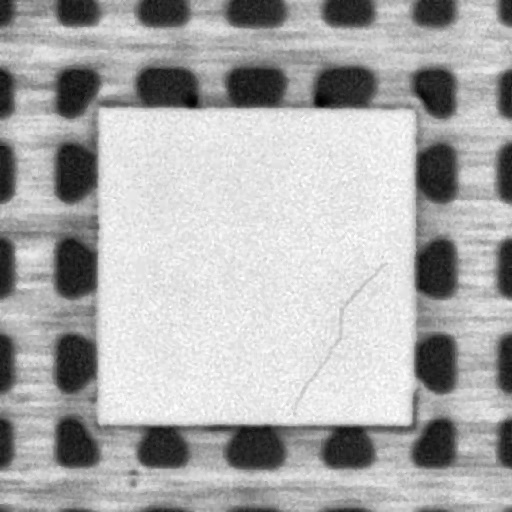DIE_CRACK: (291, 260, 386, 414)
